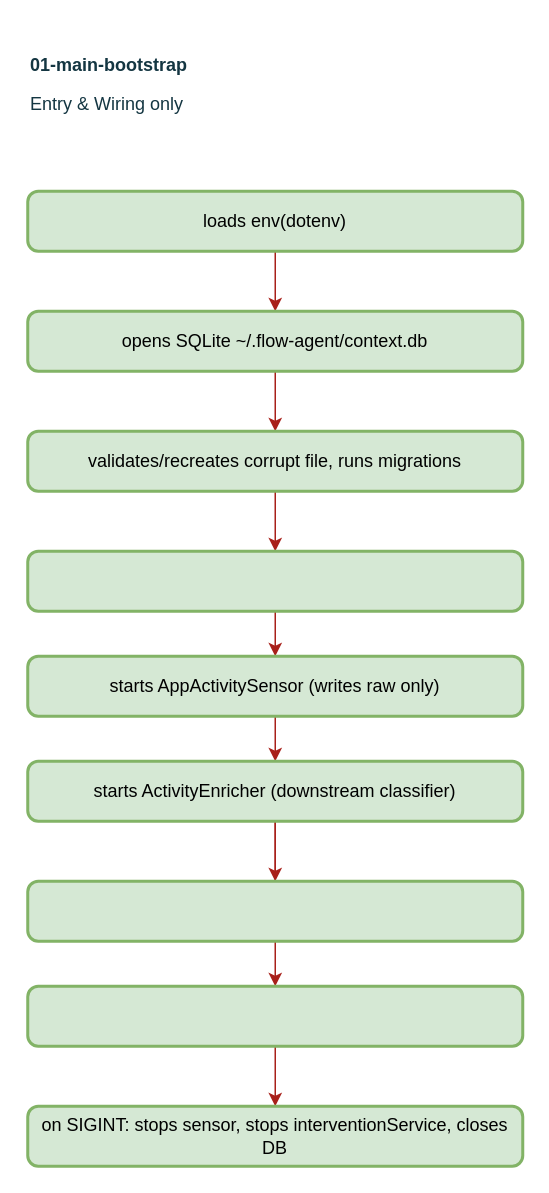
Image size: 549x1193. Some labels were removed from this diagram. Here are the shapes that lost their labels. From the top down, the centre of each, then its label:
At (x=275, y=580): "constructs repos and services".
At (x=275, y=910): "starts InterventionService".
At (x=275, y=1015): "registers two cron paths (orchestration + session schedule)".
